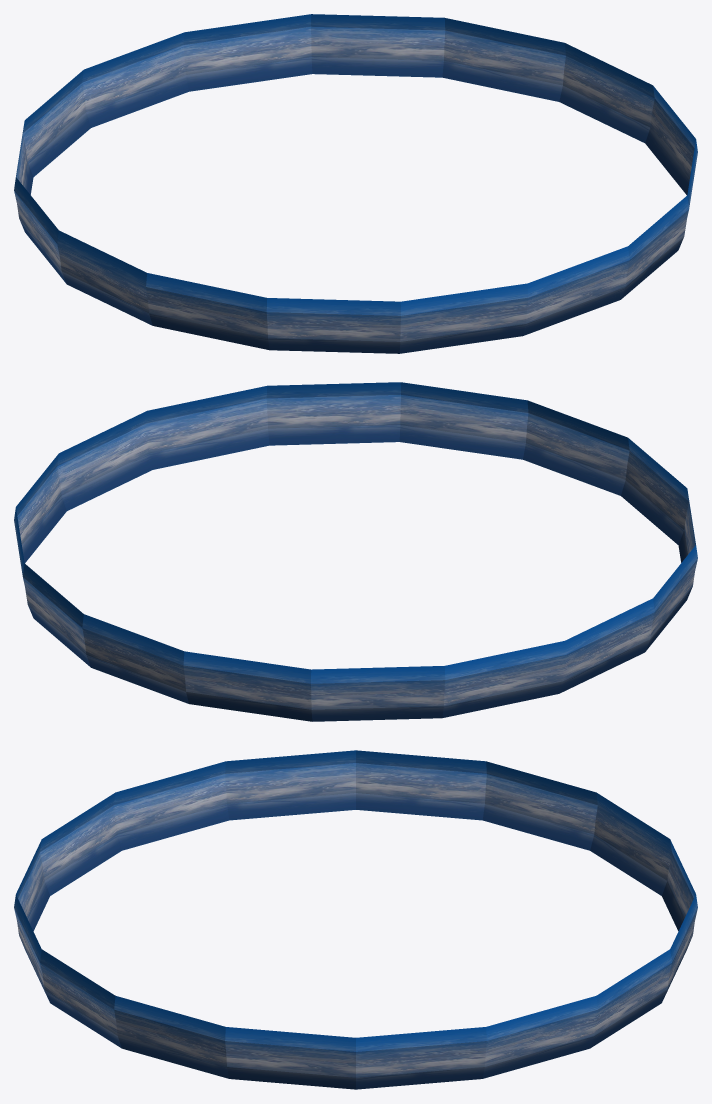
File: Sky2.obj
3 views of the same model, one above another, from view 1: azimuth 30°, elevation 25°; view 2: azimuth 150°, elevation 25°; view 3: azimuth 270°, elevation 25° (orthographic).
Parts seen in each view (by area): view 1: Object_2; view 2: Object_2; view 3: Object_2.
Boxes of the visible parts, x1,y1,x2,y2 form: Object_2: (14, 14, 697, 353); Object_2: (14, 382, 697, 721); Object_2: (14, 750, 697, 1089).
Size of the model in its own units: 468892 by 42104 by 468892.
Materials: 1 (1 with a texture image).
